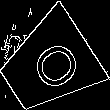O_SW: (17, 33, 80, 97)
